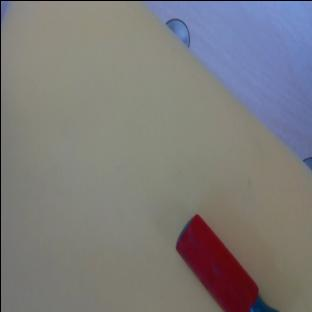part_2_good: (164, 212, 278, 312)
